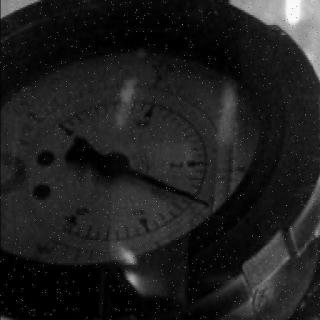gauge: (0, 10, 320, 320), (44, 110, 84, 150), (94, 151, 132, 179), (52, 206, 82, 240), (200, 197, 216, 212)
